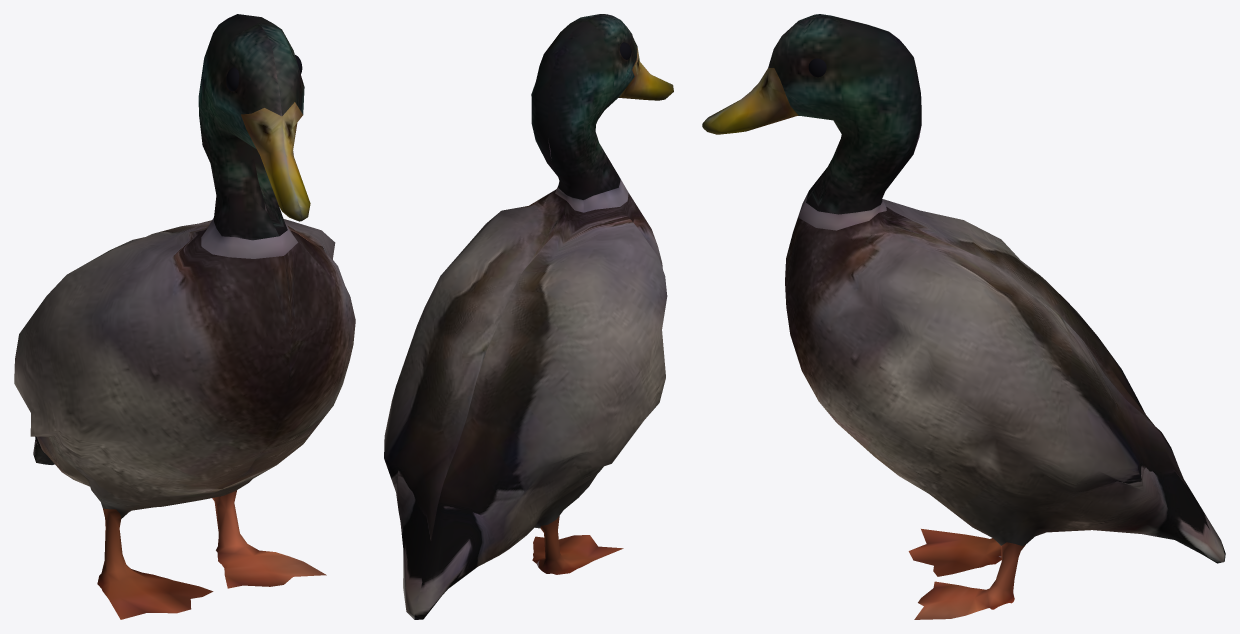
3 renders of one model, left to right at view 1: azimuth 30°, elevation 25°; view 2: azimuth 150°, elevation 25°; view 3: azimuth 270°, elevation 25°, orthographic. The views are drawn at different scales.
Visible parts, largest first — view 1: redheadduck_lowpoly_0; view 2: redheadduck_lowpoly_0; view 3: redheadduck_lowpoly_0.
Part boxes in pixels (box(x1,y1,x2,y2)): redheadduck_lowpoly_0: box(14, 14, 355, 619); redheadduck_lowpoly_0: box(384, 14, 673, 619); redheadduck_lowpoly_0: box(702, 14, 1225, 619).
Bounding box in the file's own units: 0.4355 × 0.9358 × 0.8018.
3 materials, 2 textured.
